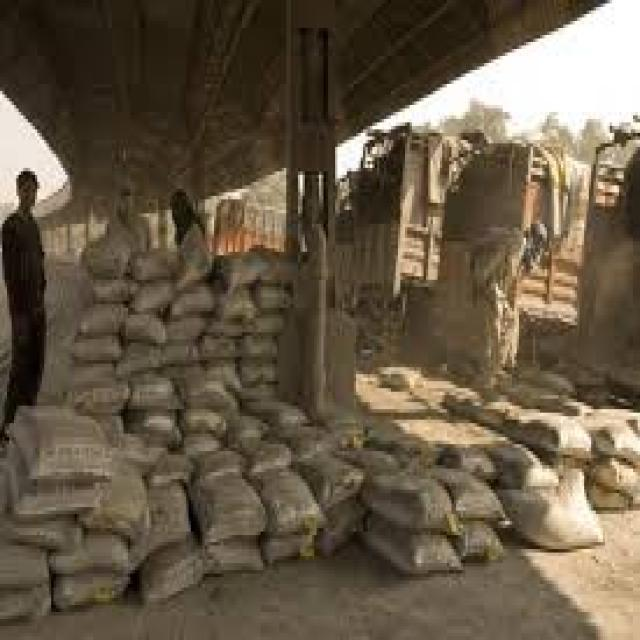cement_bag: (20, 401, 119, 470), (190, 471, 270, 545), (365, 515, 463, 570), (299, 446, 367, 520), (507, 488, 605, 539), (256, 465, 323, 532), (368, 470, 451, 524), (133, 481, 189, 557), (436, 465, 510, 517), (147, 537, 203, 604), (16, 486, 109, 523), (496, 443, 559, 490), (87, 218, 141, 269), (321, 500, 366, 558), (221, 248, 278, 291), (55, 545, 135, 575), (259, 394, 312, 430), (131, 375, 180, 413), (73, 378, 129, 410), (80, 300, 127, 336), (266, 531, 311, 567), (228, 408, 265, 451), (248, 442, 291, 478), (126, 310, 167, 347), (197, 451, 242, 484), (174, 288, 215, 323), (135, 253, 178, 285), (151, 453, 193, 483), (259, 285, 295, 318), (74, 337, 122, 361), (139, 279, 176, 310), (167, 338, 205, 368), (118, 348, 158, 376), (220, 290, 257, 319), (245, 335, 280, 365), (244, 362, 279, 389), (200, 336, 239, 360), (95, 278, 134, 302), (187, 411, 224, 436)
